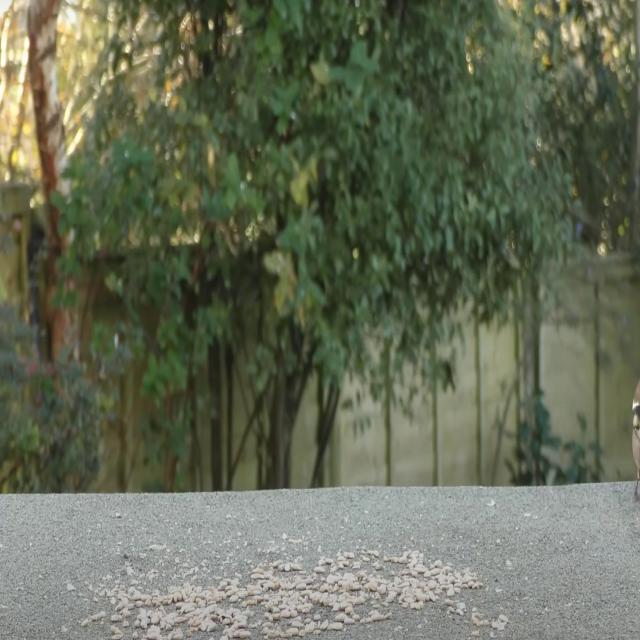bird: (630, 366, 640, 517)
